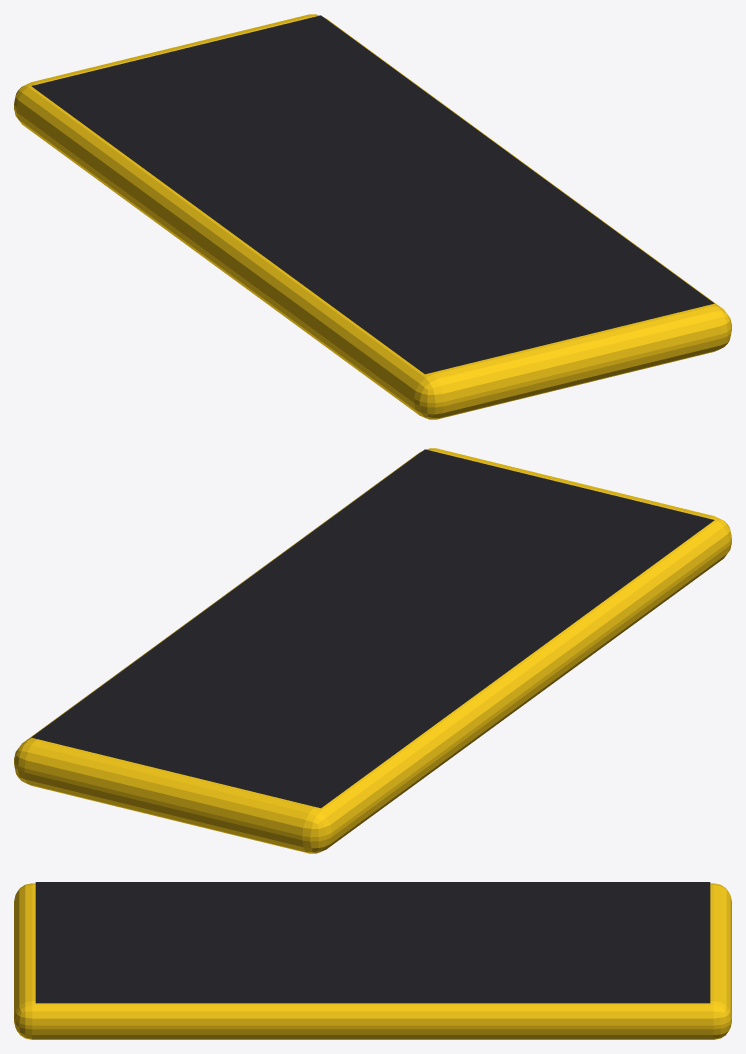
Rendered from Phone_378.glb.
3 views of the same model, one above another, from view 1: azimuth 30°, elevation 25°; view 2: azimuth 150°, elevation 25°; view 3: azimuth 270°, elevation 25° (orthographic). The views are drawn at different scales.
Parts seen in each view (by area): view 1: Phone_Screen, Phone_Body; view 2: Phone_Screen, Phone_Body; view 3: Phone_Screen, Phone_Body.
Boxes of the visible parts, bbox=[...] form: Phone_Screen: bbox=[31, 15, 714, 374]; Phone_Body: bbox=[14, 14, 731, 419]; Phone_Screen: bbox=[31, 449, 714, 808]; Phone_Body: bbox=[14, 448, 731, 853]; Phone_Screen: bbox=[35, 882, 710, 1003]; Phone_Body: bbox=[14, 883, 731, 1039].
Bounding box in the file's own units: 0.0707 × 0.0094 × 0.1628.
